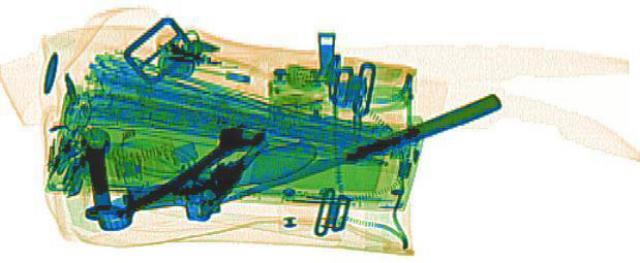Gun: (100, 119, 276, 222)
